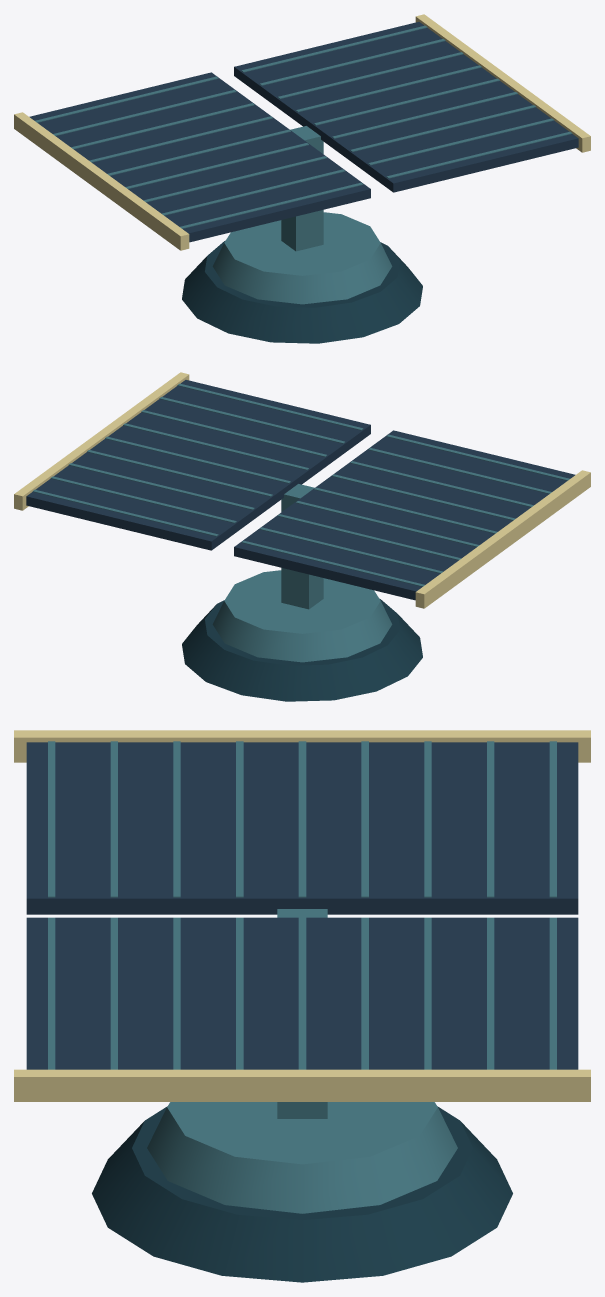
The model's file is pelagic_high_pressure--radiator.glb.
The picture shows the model from 3 angles, top to bottom: view 1: azimuth 30°, elevation 25°; view 2: azimuth 150°, elevation 25°; view 3: azimuth 270°, elevation 25°; orthographic projection. The views are drawn at different scales.
Visible parts, largest first — view 1: radiator_panel_15, radiator_panel_4, rotation_bearing_2, mount_adapter_1, panel_edge_14, panel_edge_25, thermal_riser_3, thermal_channel_24, thermal_channel_16, thermal_channel_18, thermal_channel_23, thermal_channel_17 (+13 smaller); view 2: radiator_panel_15, radiator_panel_4, rotation_bearing_2, mount_adapter_1, panel_edge_14, panel_edge_25, thermal_riser_3, thermal_channel_16, thermal_channel_22, thermal_channel_24, thermal_channel_17, thermal_channel_18 (+13 smaller); view 3: radiator_panel_4, radiator_panel_15, mount_adapter_1, rotation_bearing_2, panel_edge_25, panel_edge_14, thermal_channel_9, thermal_channel_20, thermal_riser_3, thermal_channel_5, thermal_channel_6, thermal_channel_7 (+13 smaller).
Part boxes in pixels (x1,y1,x2,y2): radiator_panel_15: (234, 22, 578, 192); radiator_panel_4: (29, 72, 370, 242); rotation_bearing_2: (212, 212, 392, 304); mount_adapter_1: (182, 240, 422, 343); panel_edge_14: (14, 112, 189, 250); panel_edge_25: (415, 14, 590, 152); thermal_riser_3: (281, 126, 323, 251); thermal_channel_24: (386, 131, 572, 178); thermal_channel_16: (241, 25, 427, 72); thermal_channel_18: (277, 52, 463, 98); thermal_channel_23: (368, 118, 554, 165); thermal_channel_17: (260, 39, 445, 85); radiator_panel_15: (26, 380, 370, 550); radiator_panel_4: (234, 430, 575, 600); rotation_bearing_2: (212, 570, 392, 662); mount_adapter_1: (182, 598, 422, 701); panel_edge_14: (415, 470, 590, 608); panel_edge_25: (14, 372, 189, 510); thermal_riser_3: (281, 484, 323, 609); thermal_channel_16: (32, 489, 218, 536); thermal_channel_22: (141, 410, 327, 456); thermal_channel_24: (177, 383, 363, 430); thermal_channel_17: (50, 476, 236, 523); thermal_channel_18: (69, 463, 254, 509); radiator_panel_4: (26, 742, 578, 914); radiator_panel_15: (26, 917, 578, 1069); mount_adapter_1: (92, 1106, 512, 1282); rotation_bearing_2: (147, 1102, 457, 1213); panel_edge_25: (14, 1069, 590, 1101); panel_edge_14: (14, 730, 590, 762); thermal_channel_9: (298, 741, 306, 897); thermal_channel_20: (298, 917, 306, 1069); thermal_riser_3: (277, 909, 327, 1118); thermal_channel_5: (549, 741, 556, 897); thermal_channel_6: (487, 741, 494, 897); thermal_channel_7: (424, 741, 431, 897).
Bounding box in the file's own units: 19.62 × 7.65 × 13.8.
